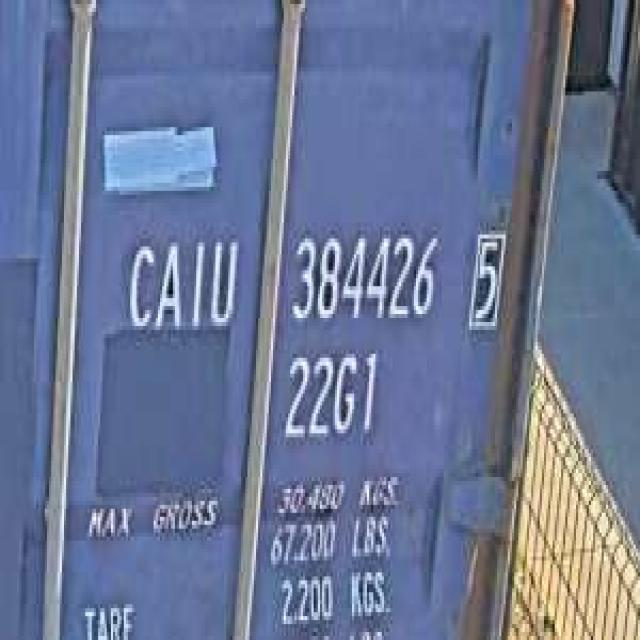dv: (461, 219, 508, 338)
owner: (119, 226, 239, 338)
serial: (286, 219, 441, 330)
size: (279, 342, 380, 449)
